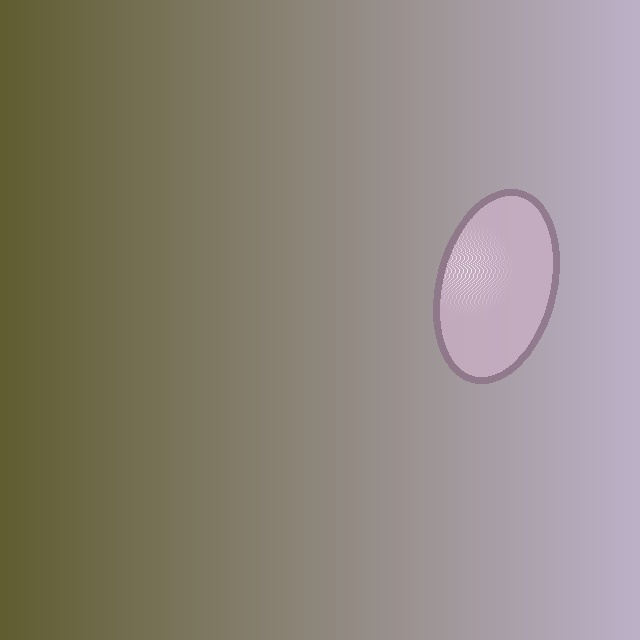lens: (436, 192, 556, 380)
